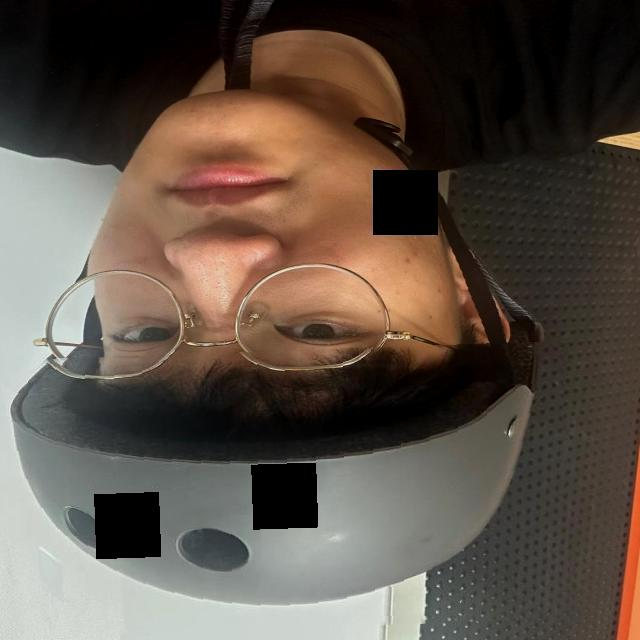helmet: (6, 345, 569, 633)
